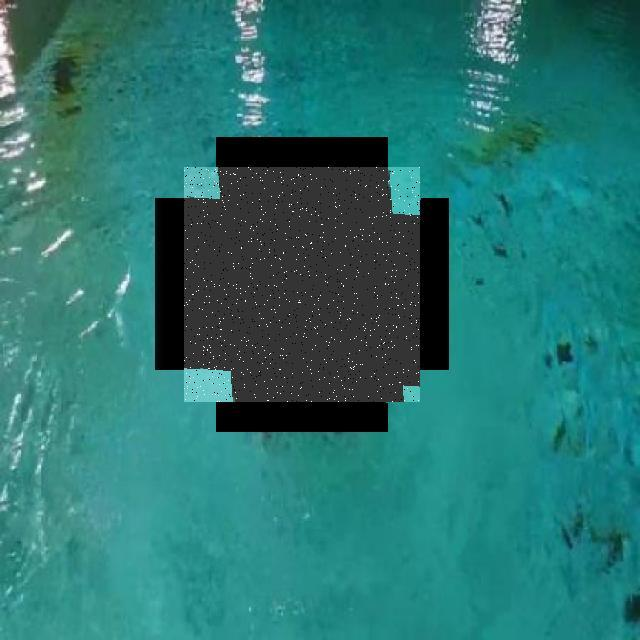Out of Water: (184, 167, 420, 402)
